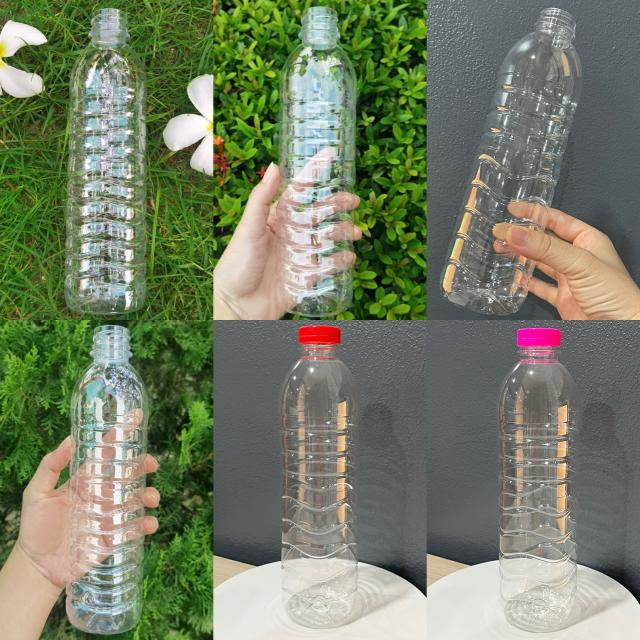plastik: (439, 8, 587, 321), (276, 6, 358, 317), (66, 325, 148, 634), (498, 328, 581, 632), (65, 9, 146, 313), (280, 325, 359, 628)
